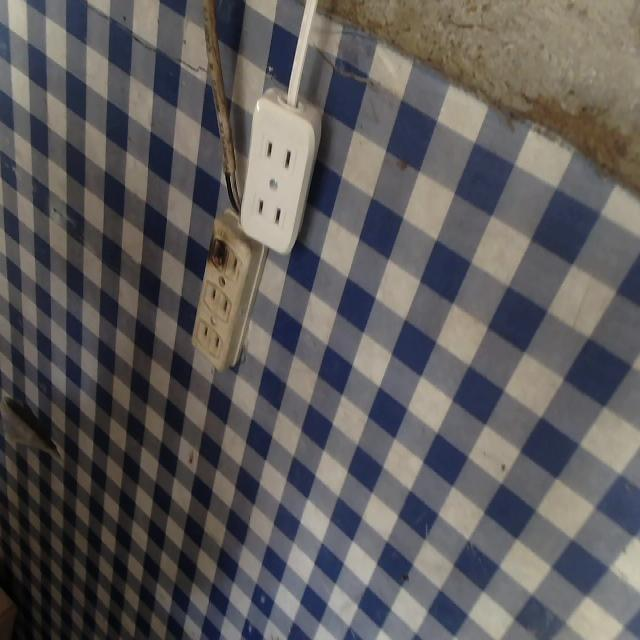-: (204, 222, 233, 274)
